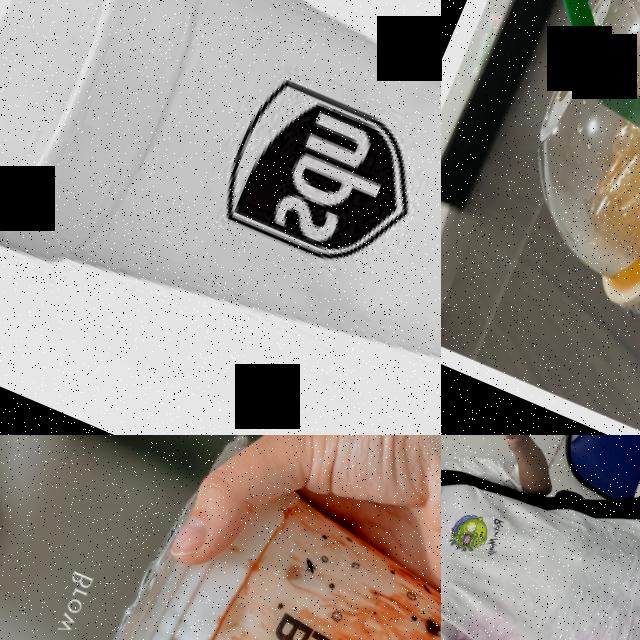cup: (0, 0, 441, 435), (97, 435, 441, 640), (478, 0, 640, 435)
